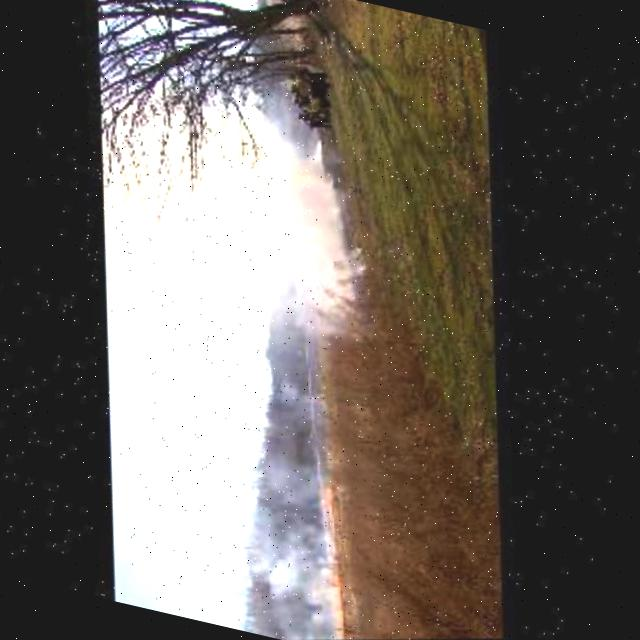fire: (311, 488, 345, 536), (324, 597, 349, 640)
